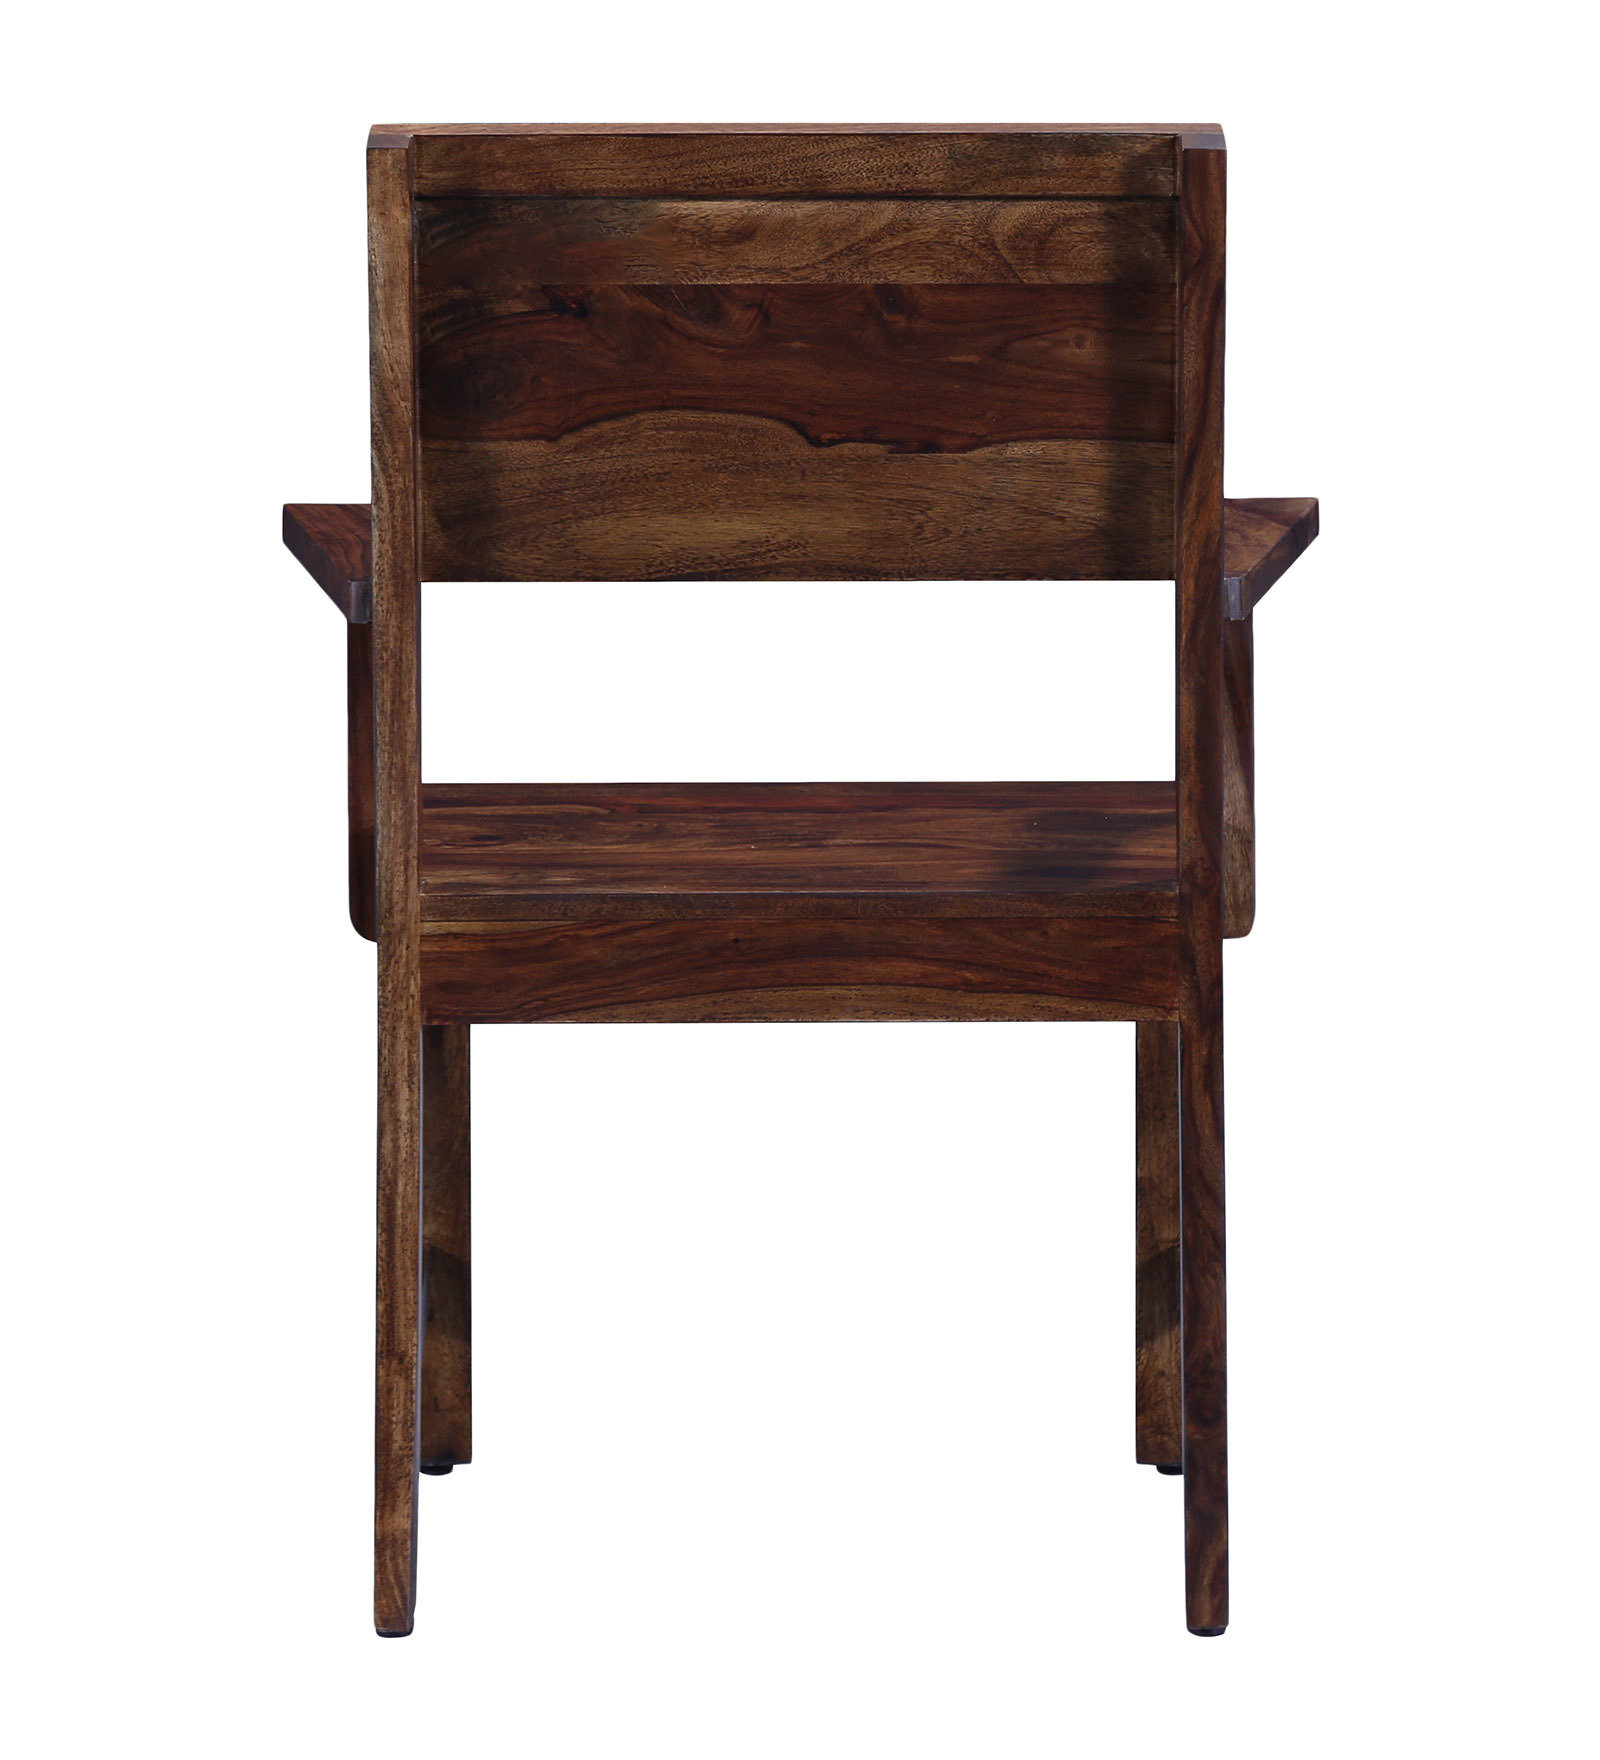Segur Arm Chair in Provincial Teak Finish by Woodsworth: (244, 74, 1349, 1693)
